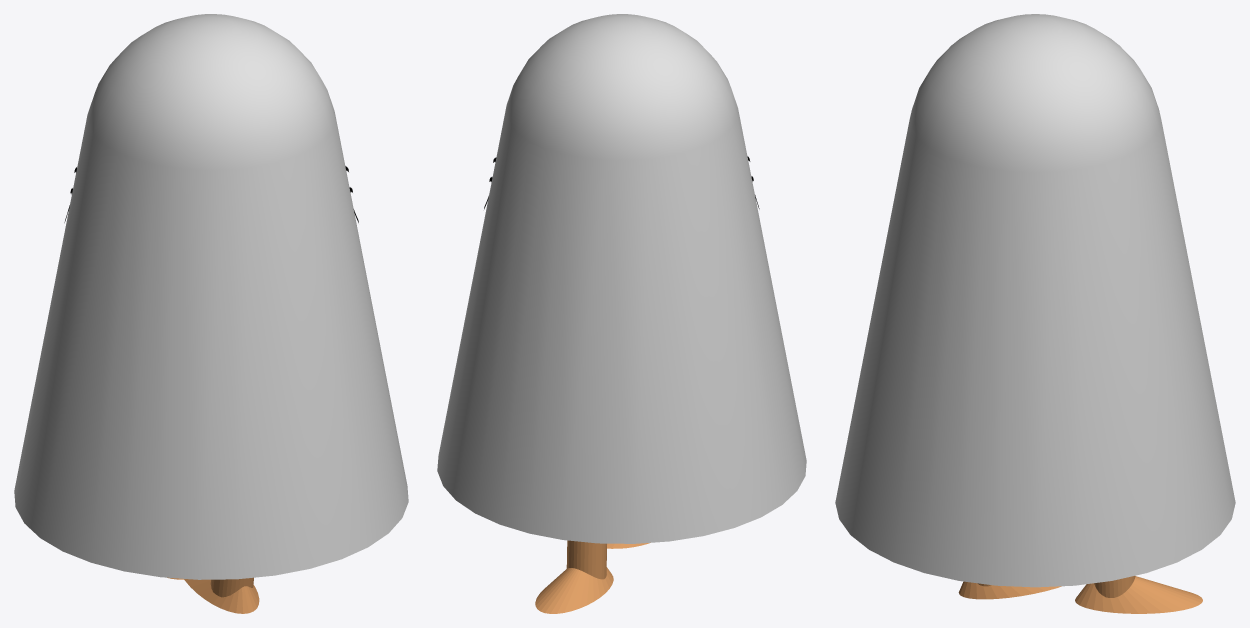
File: Medjed.glb
The picture shows the model from 3 angles, left to right: view 1: azimuth 30°, elevation 25°; view 2: azimuth 150°, elevation 25°; view 3: azimuth 270°, elevation 25°; orthographic projection. The views are drawn at different scales.
Parts seen in each view (by area): view 1: Body, Foot_l; view 2: Body, Foot_r; view 3: Body, Foot_r, Foot_l.
Part boxes in pixels (left/top/right/bottom): Body: left=14, top=14, right=408, bottom=579; Foot_l: left=184, top=577, right=259, bottom=613; Body: left=437, top=14, right=806, bottom=543; Foot_r: left=535, top=540, right=613, bottom=613; Body: left=835, top=14, right=1235, bottom=587; Foot_r: left=1075, top=576, right=1202, bottom=613; Foot_l: left=958, top=581, right=1061, bottom=599.
Bounding box in the file's own units: 1.56 × 2.47 × 1.56.
1 material, 1 textured.
